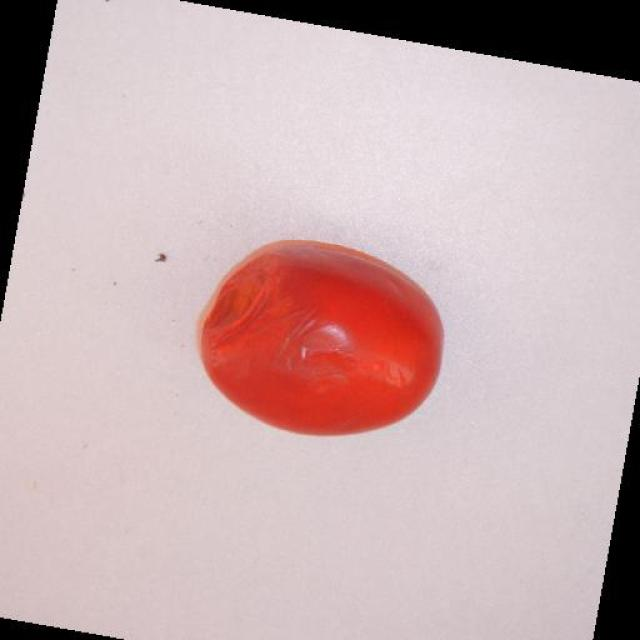Stale_tomato: (190, 240, 284, 354)
